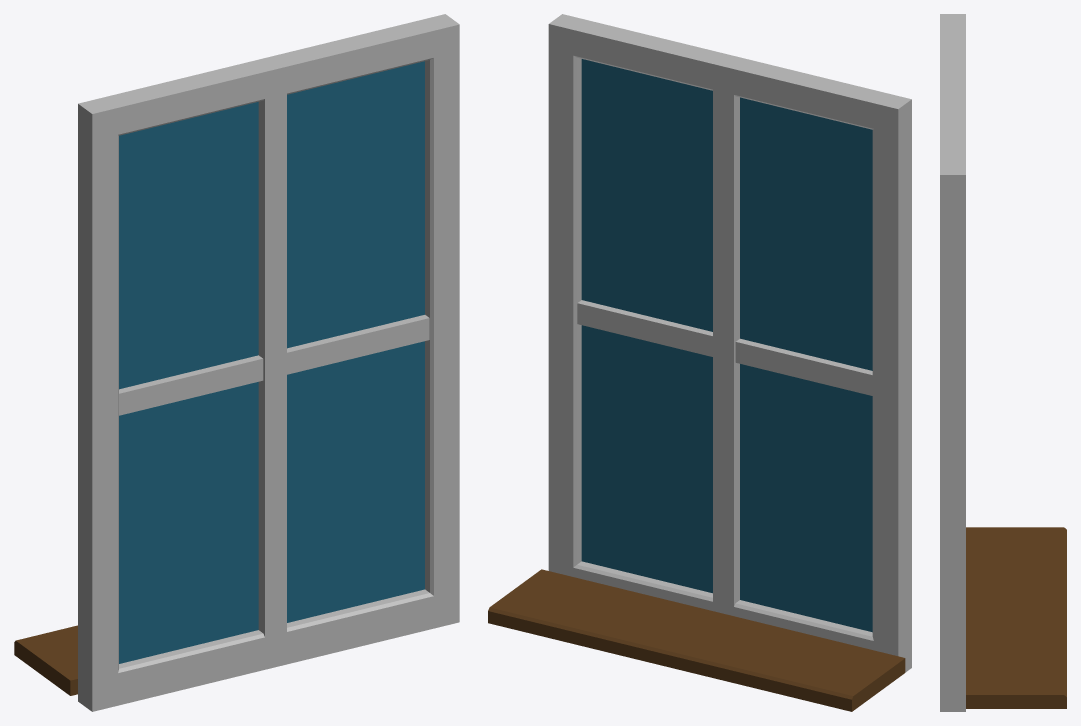
The model's file is Window_Type_A.fbx.
3 renders of one model, left to right at view 1: azimuth 30°, elevation 25°; view 2: azimuth 150°, elevation 25°; view 3: azimuth 270°, elevation 25°, orthographic. The views are drawn at different scales.
Parts seen in each view (by area): view 1: Box001; view 2: Box001; view 3: Box001.
Boxes of the visible parts, x1,y1,x2,y2 form: Box001: [14, 14, 459, 711]; Box001: [488, 14, 911, 711]; Box001: [940, 14, 1066, 711].
Size of the model in its own units: 108 by 161 by 34.5.
